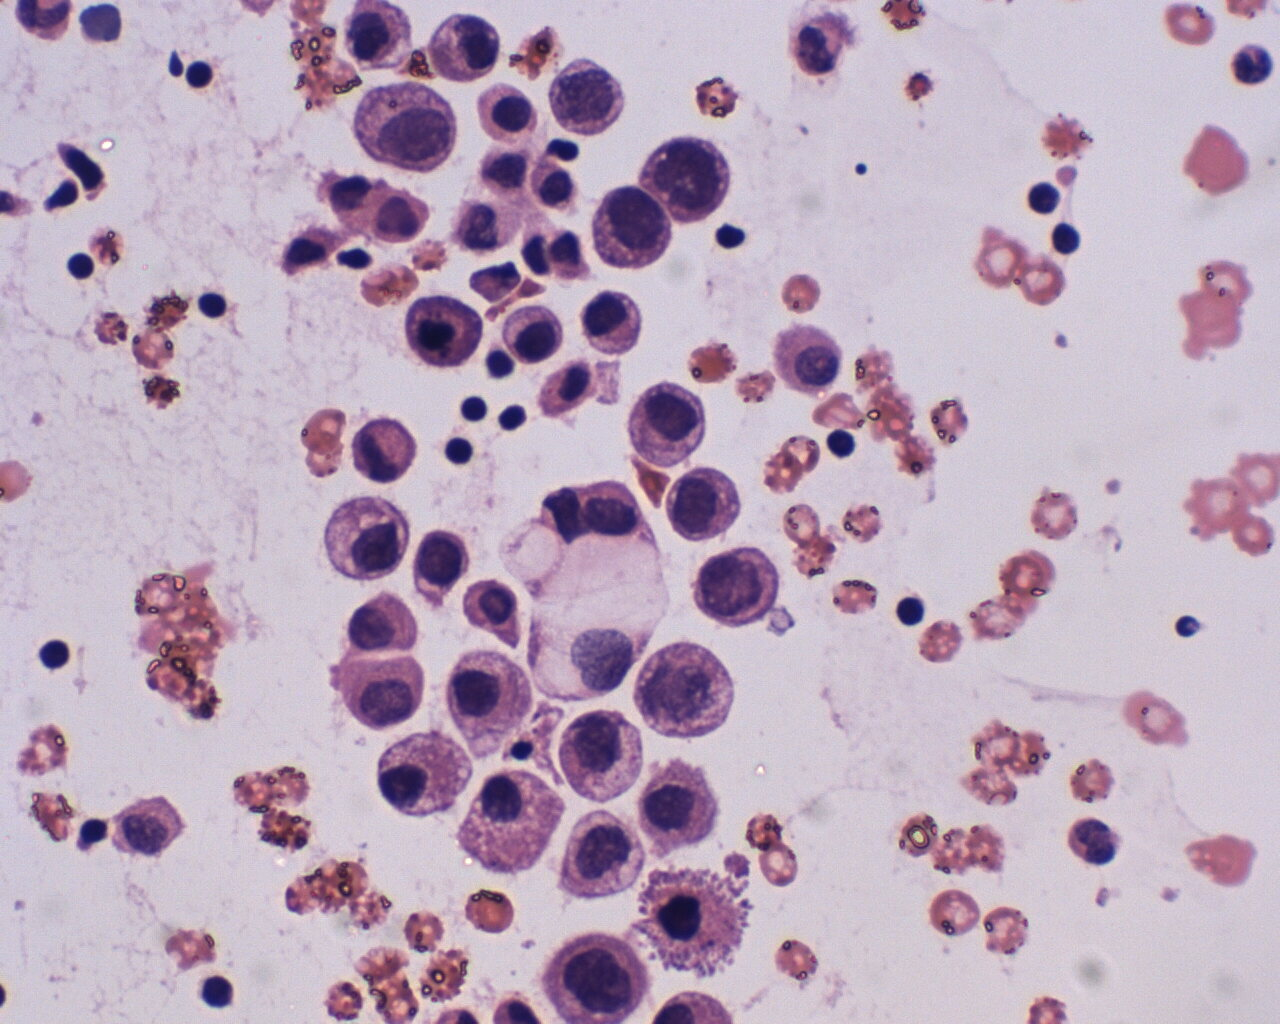ab: (634, 641, 741, 743), (538, 932, 650, 1024), (354, 80, 462, 174), (552, 706, 652, 806), (551, 810, 648, 909), (636, 757, 729, 857), (620, 380, 715, 472), (689, 543, 782, 628), (644, 133, 731, 222), (589, 181, 675, 272), (550, 55, 632, 138), (666, 466, 744, 544), (411, 525, 468, 607)
lymph: (31, 627, 78, 680)
meso: (770, 315, 850, 399), (498, 304, 571, 370), (475, 84, 541, 148)
